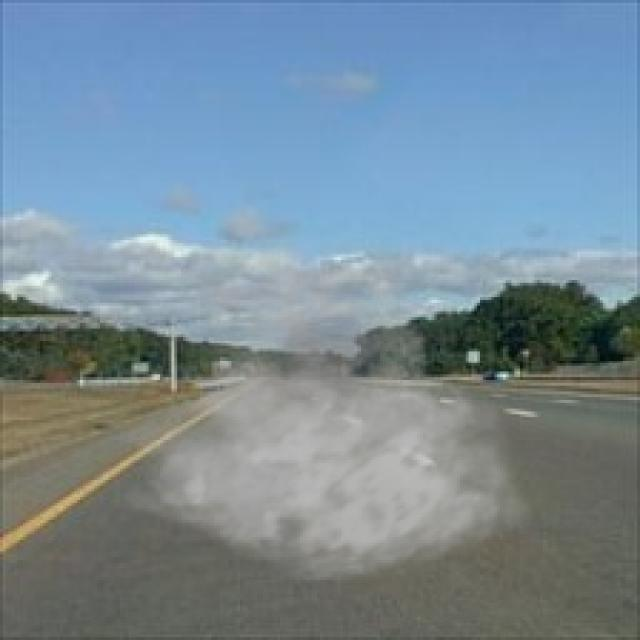Smoke: (114, 237, 532, 583)
